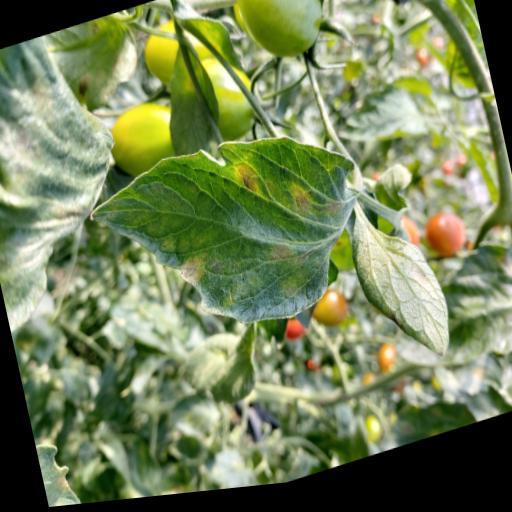Leaf Mold: (82, 110, 378, 374), (342, 202, 458, 390)
